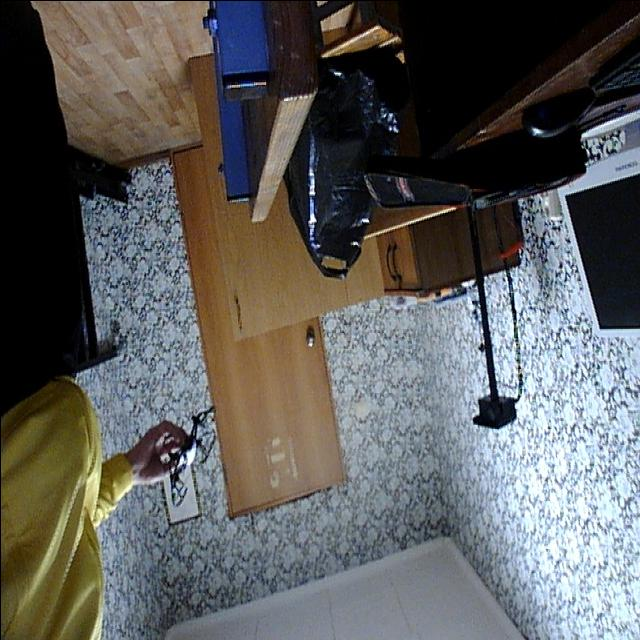drone: (149, 402, 226, 507)
